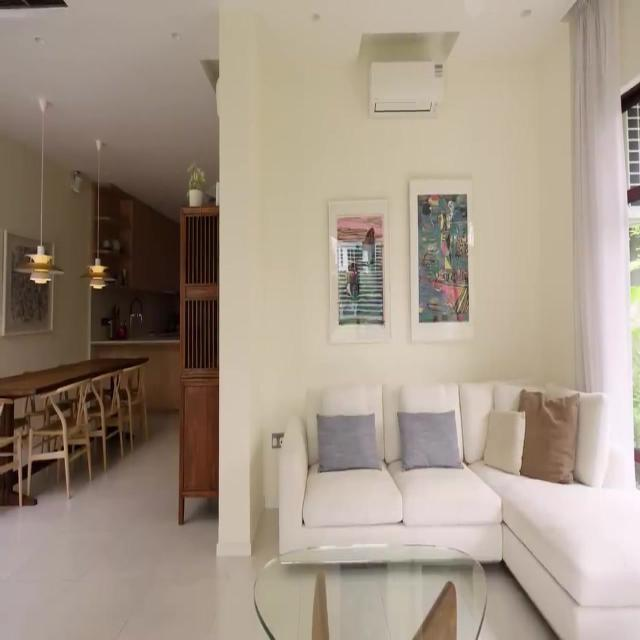obstacle: (278, 378, 640, 640), (0, 355, 149, 505), (253, 543, 487, 638), (178, 202, 220, 526)
